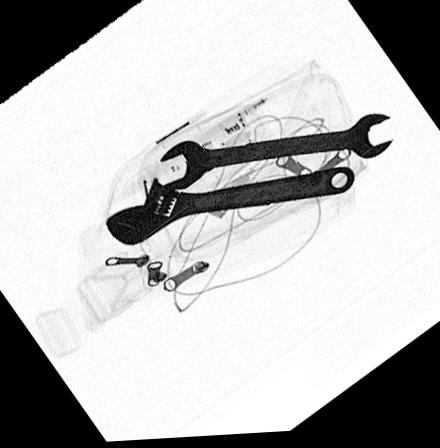Wrench: (104, 169, 354, 246), (158, 118, 392, 192)
